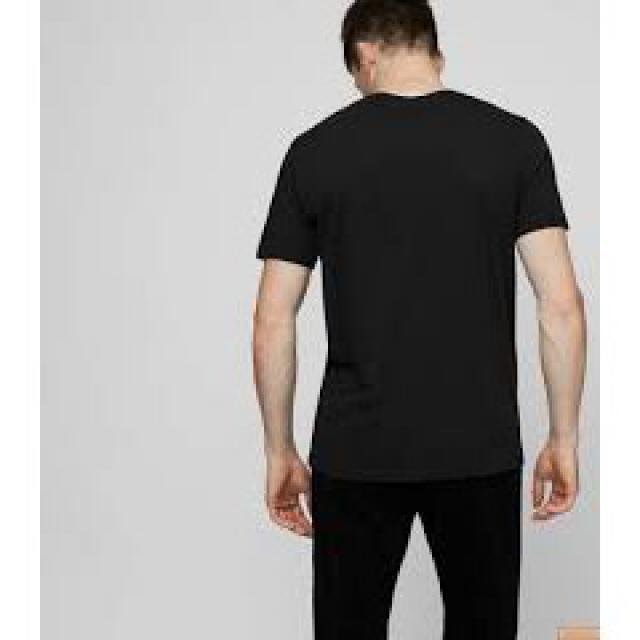Shirt: (259, 90, 571, 482)
